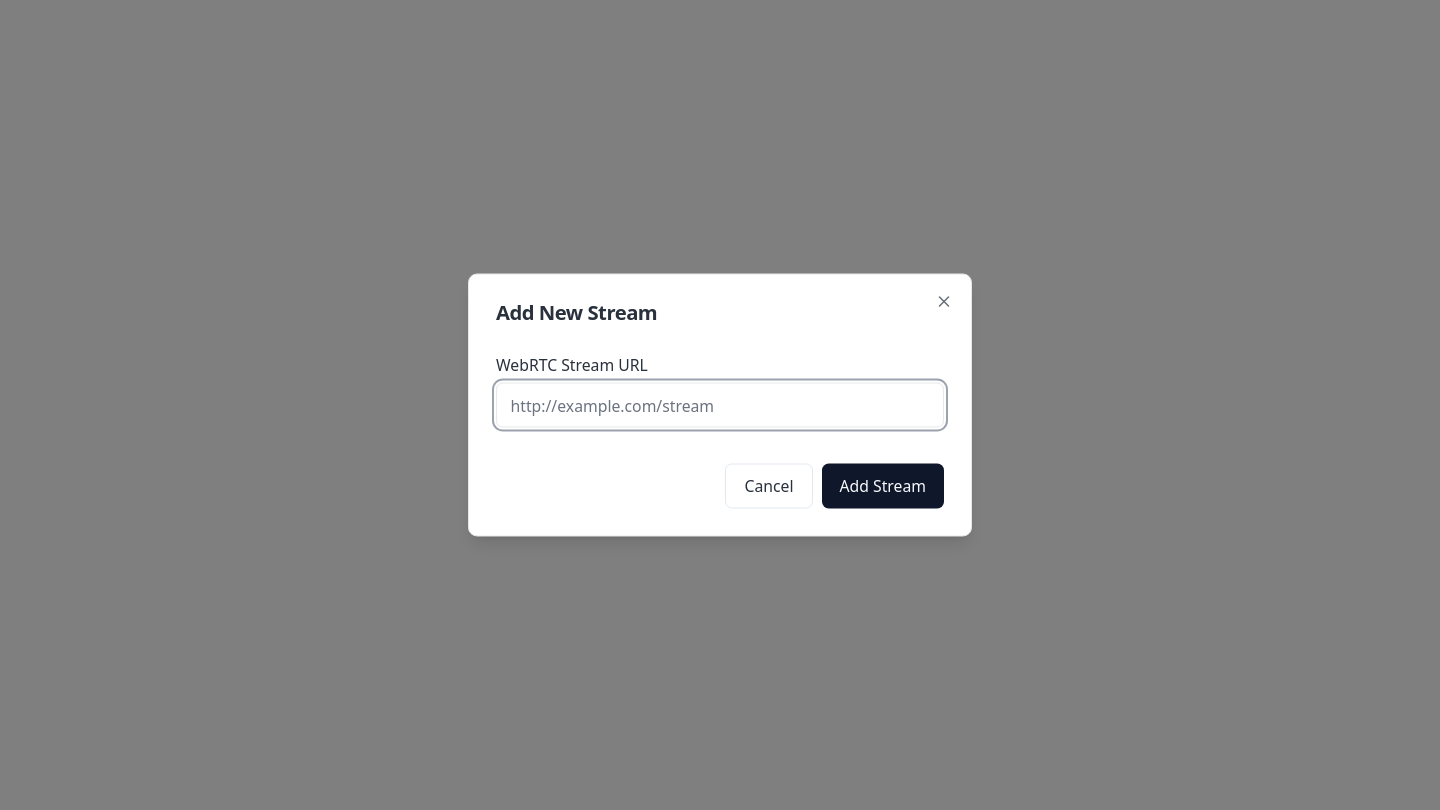
it: AddStreamDialog › shows error for invalid URL
The image size is (1440, 810).
In the field with placeholder "http://example.com/stream": (720, 405) [496,382,944,428], type "invalid-url"
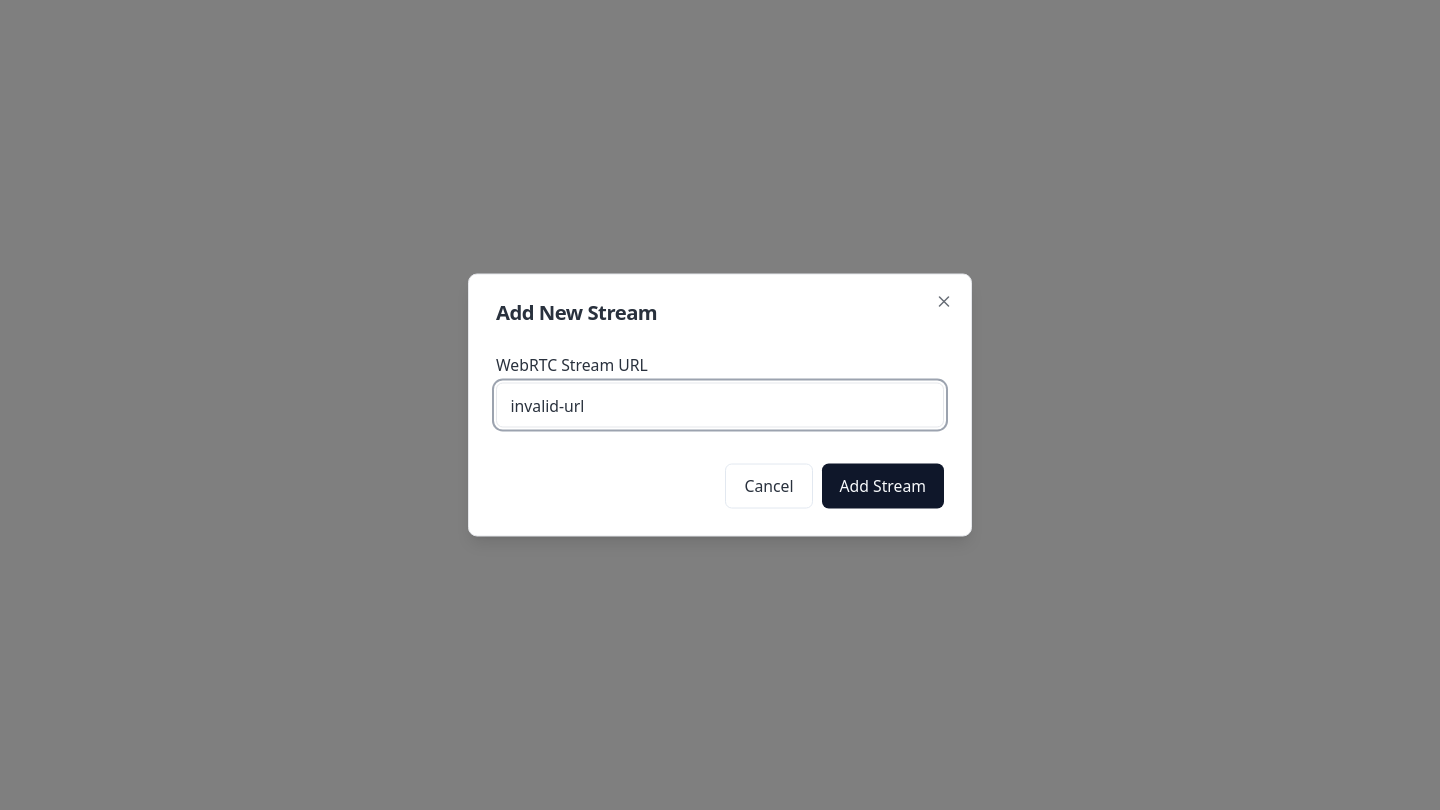
Click the button "Add Stream": (883, 486) [822,464,944,508]
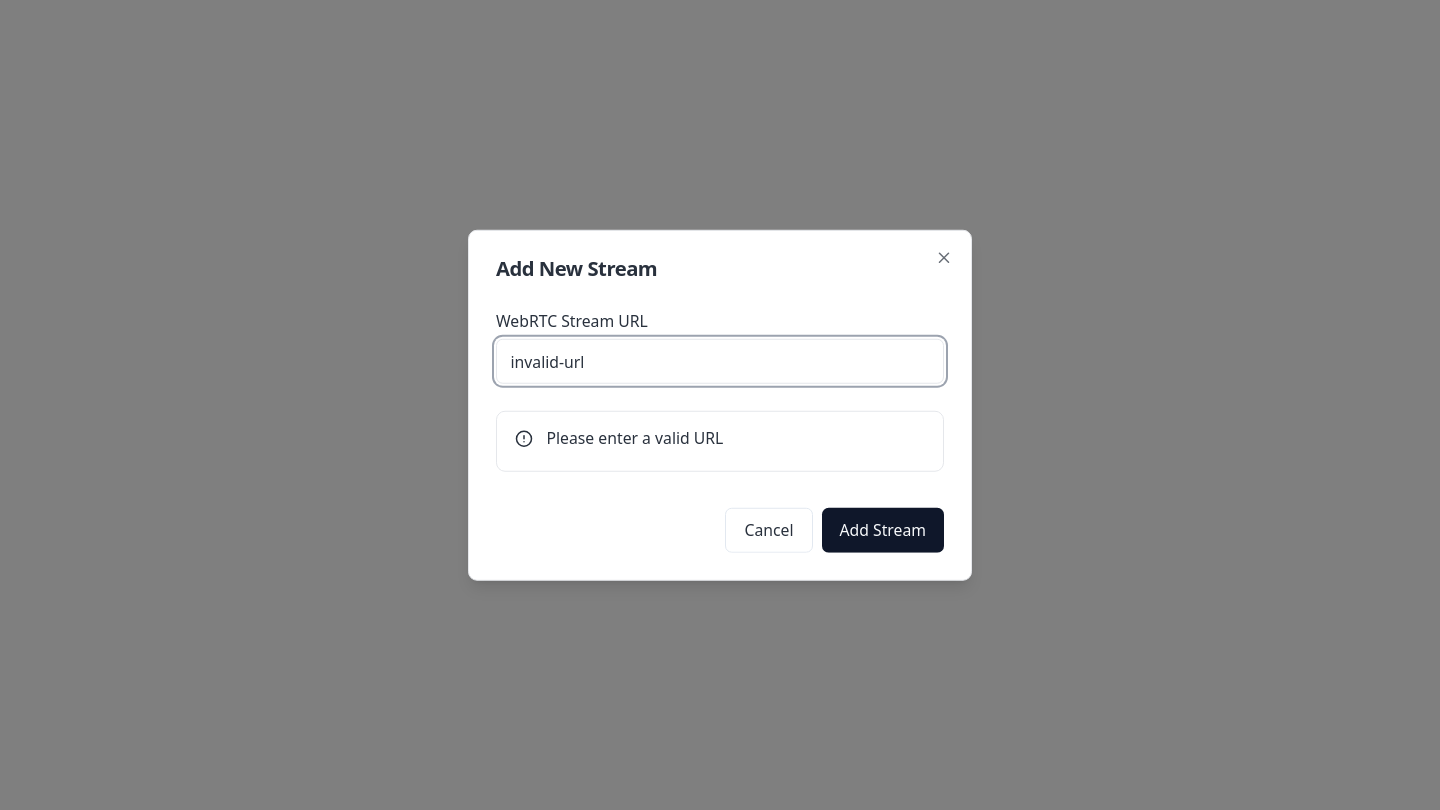
Check: the text "Please enter a valid URL" is shown, box [546,427,723,449]
